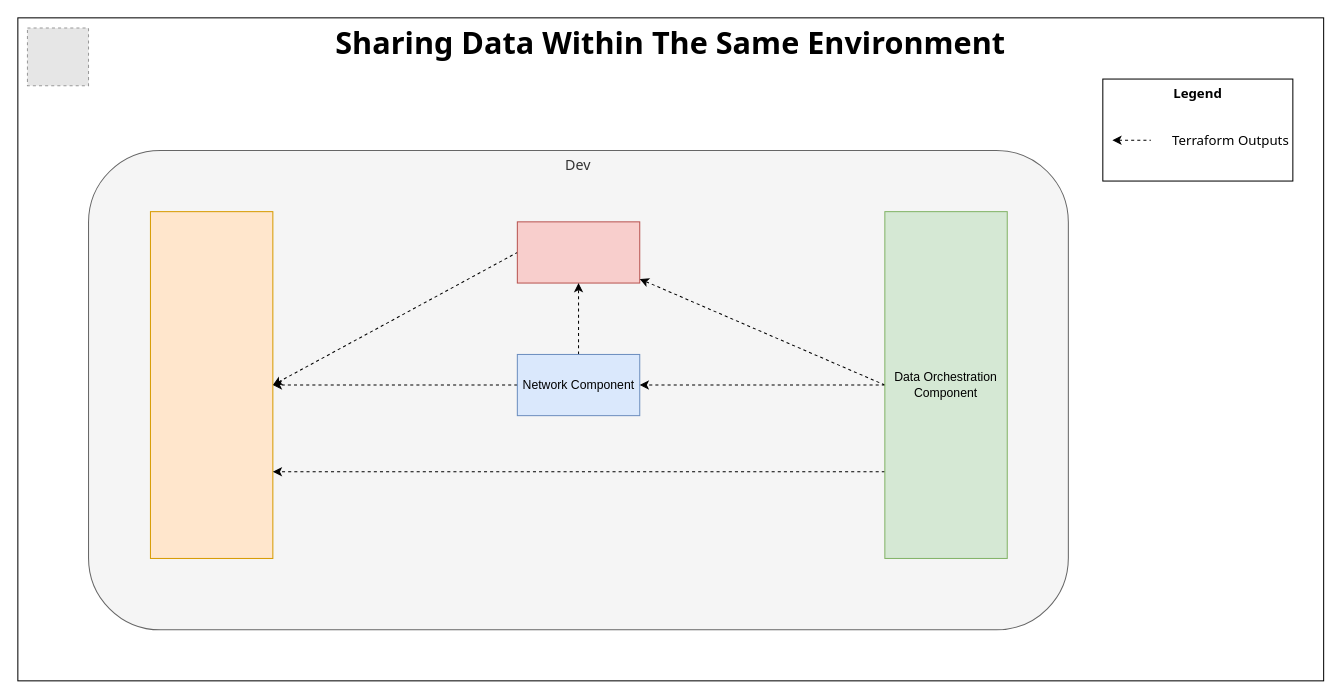
Image size: 1342x699. Some labels were removed from this diagram. Grey dashed boxes stand in for pictures. The shapes that lost their labels are listed below. From the top down, each one's centre as x and y in pixels, then its label:
point (578, 252): Secrets Component
point (211, 384): Base Component
